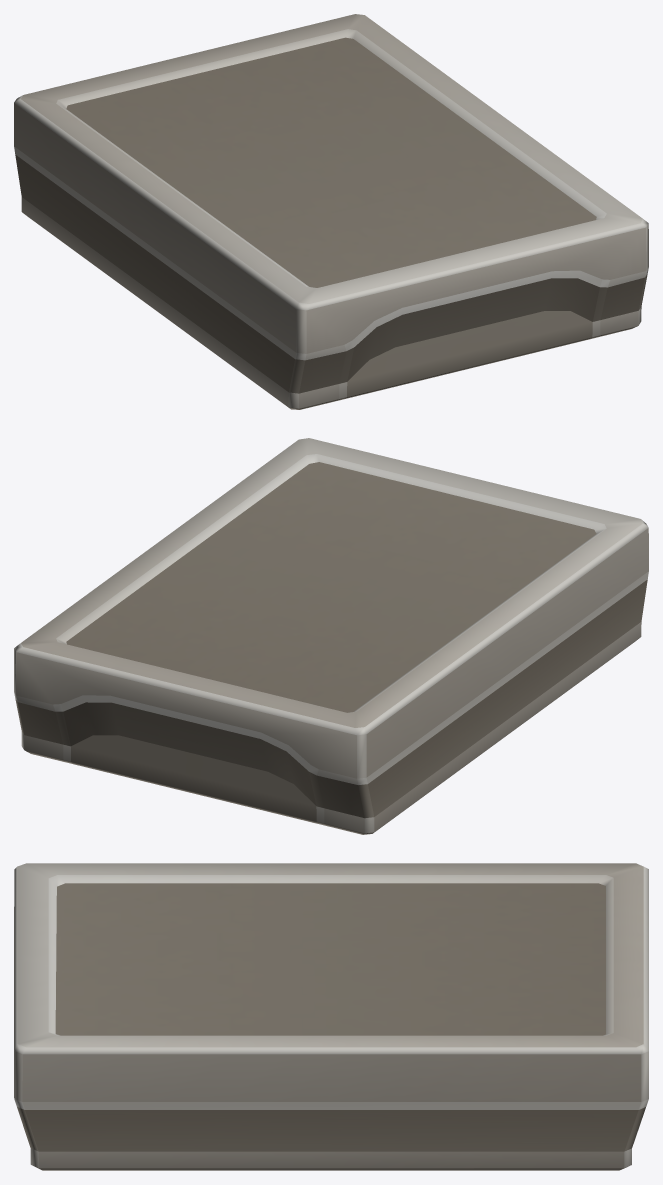
Rendered from appartment_type1_roof_type1_x3_flat.fbx.
The picture shows the model from 3 angles, top to bottom: view 1: azimuth 30°, elevation 25°; view 2: azimuth 150°, elevation 25°; view 3: azimuth 270°, elevation 25°; orthographic projection. The views are drawn at different scales.
Visible parts, largest first — view 1: appartment_type1_roof_type1_x3_flat; view 2: appartment_type1_roof_type1_x3_flat; view 3: appartment_type1_roof_type1_x3_flat.
Part boxes in pixels (<box>): appartment_type1_roof_type1_x3_flat: <box>14,14,648,409</box>; appartment_type1_roof_type1_x3_flat: <box>14,438,648,834</box>; appartment_type1_roof_type1_x3_flat: <box>14,863,648,1170</box>.
Bounding box in the file's own units: 610 × 186 × 867.
